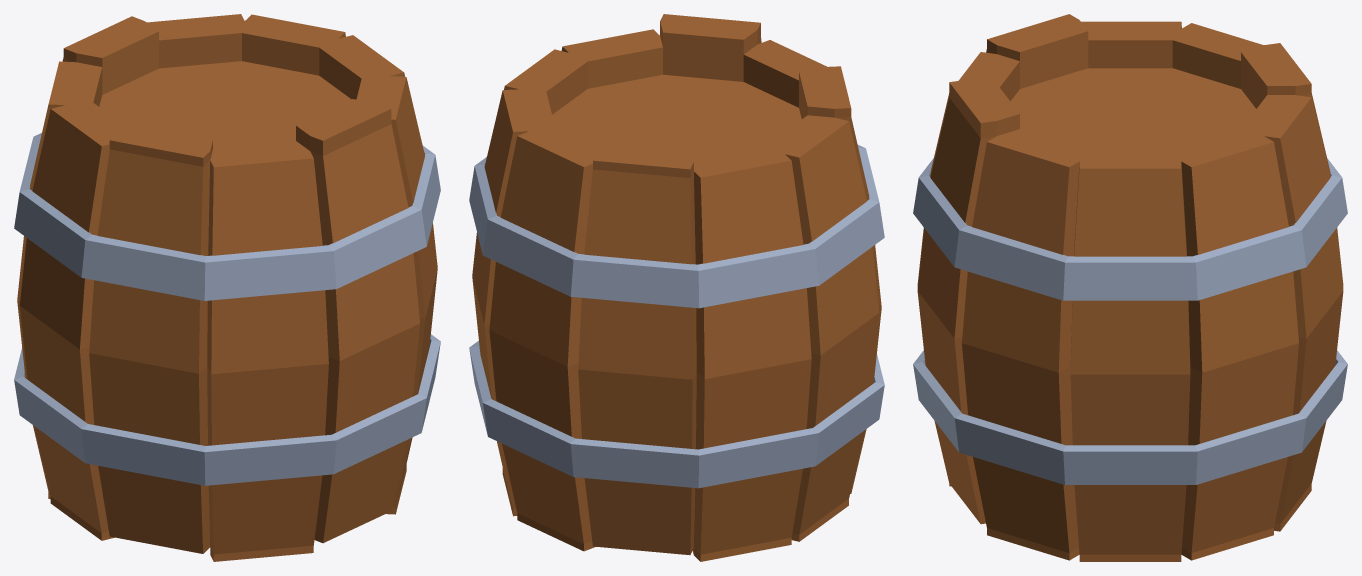
File: barrel.glb
3 views of the same model, side by side, from view 1: azimuth 30°, elevation 25°; view 2: azimuth 150°, elevation 25°; view 3: azimuth 270°, elevation 25° (orthographic). The views are drawn at different scales.
Visible parts, largest first — view 1: barrel; view 2: barrel; view 3: barrel.
Boxes of the visible parts, x1,y1,x2,y2 form: barrel: (14, 14, 440, 561); barrel: (469, 14, 884, 561); barrel: (913, 14, 1347, 561).
Size of the model in its own units: 0.8259 by 0.9 by 0.8684.
